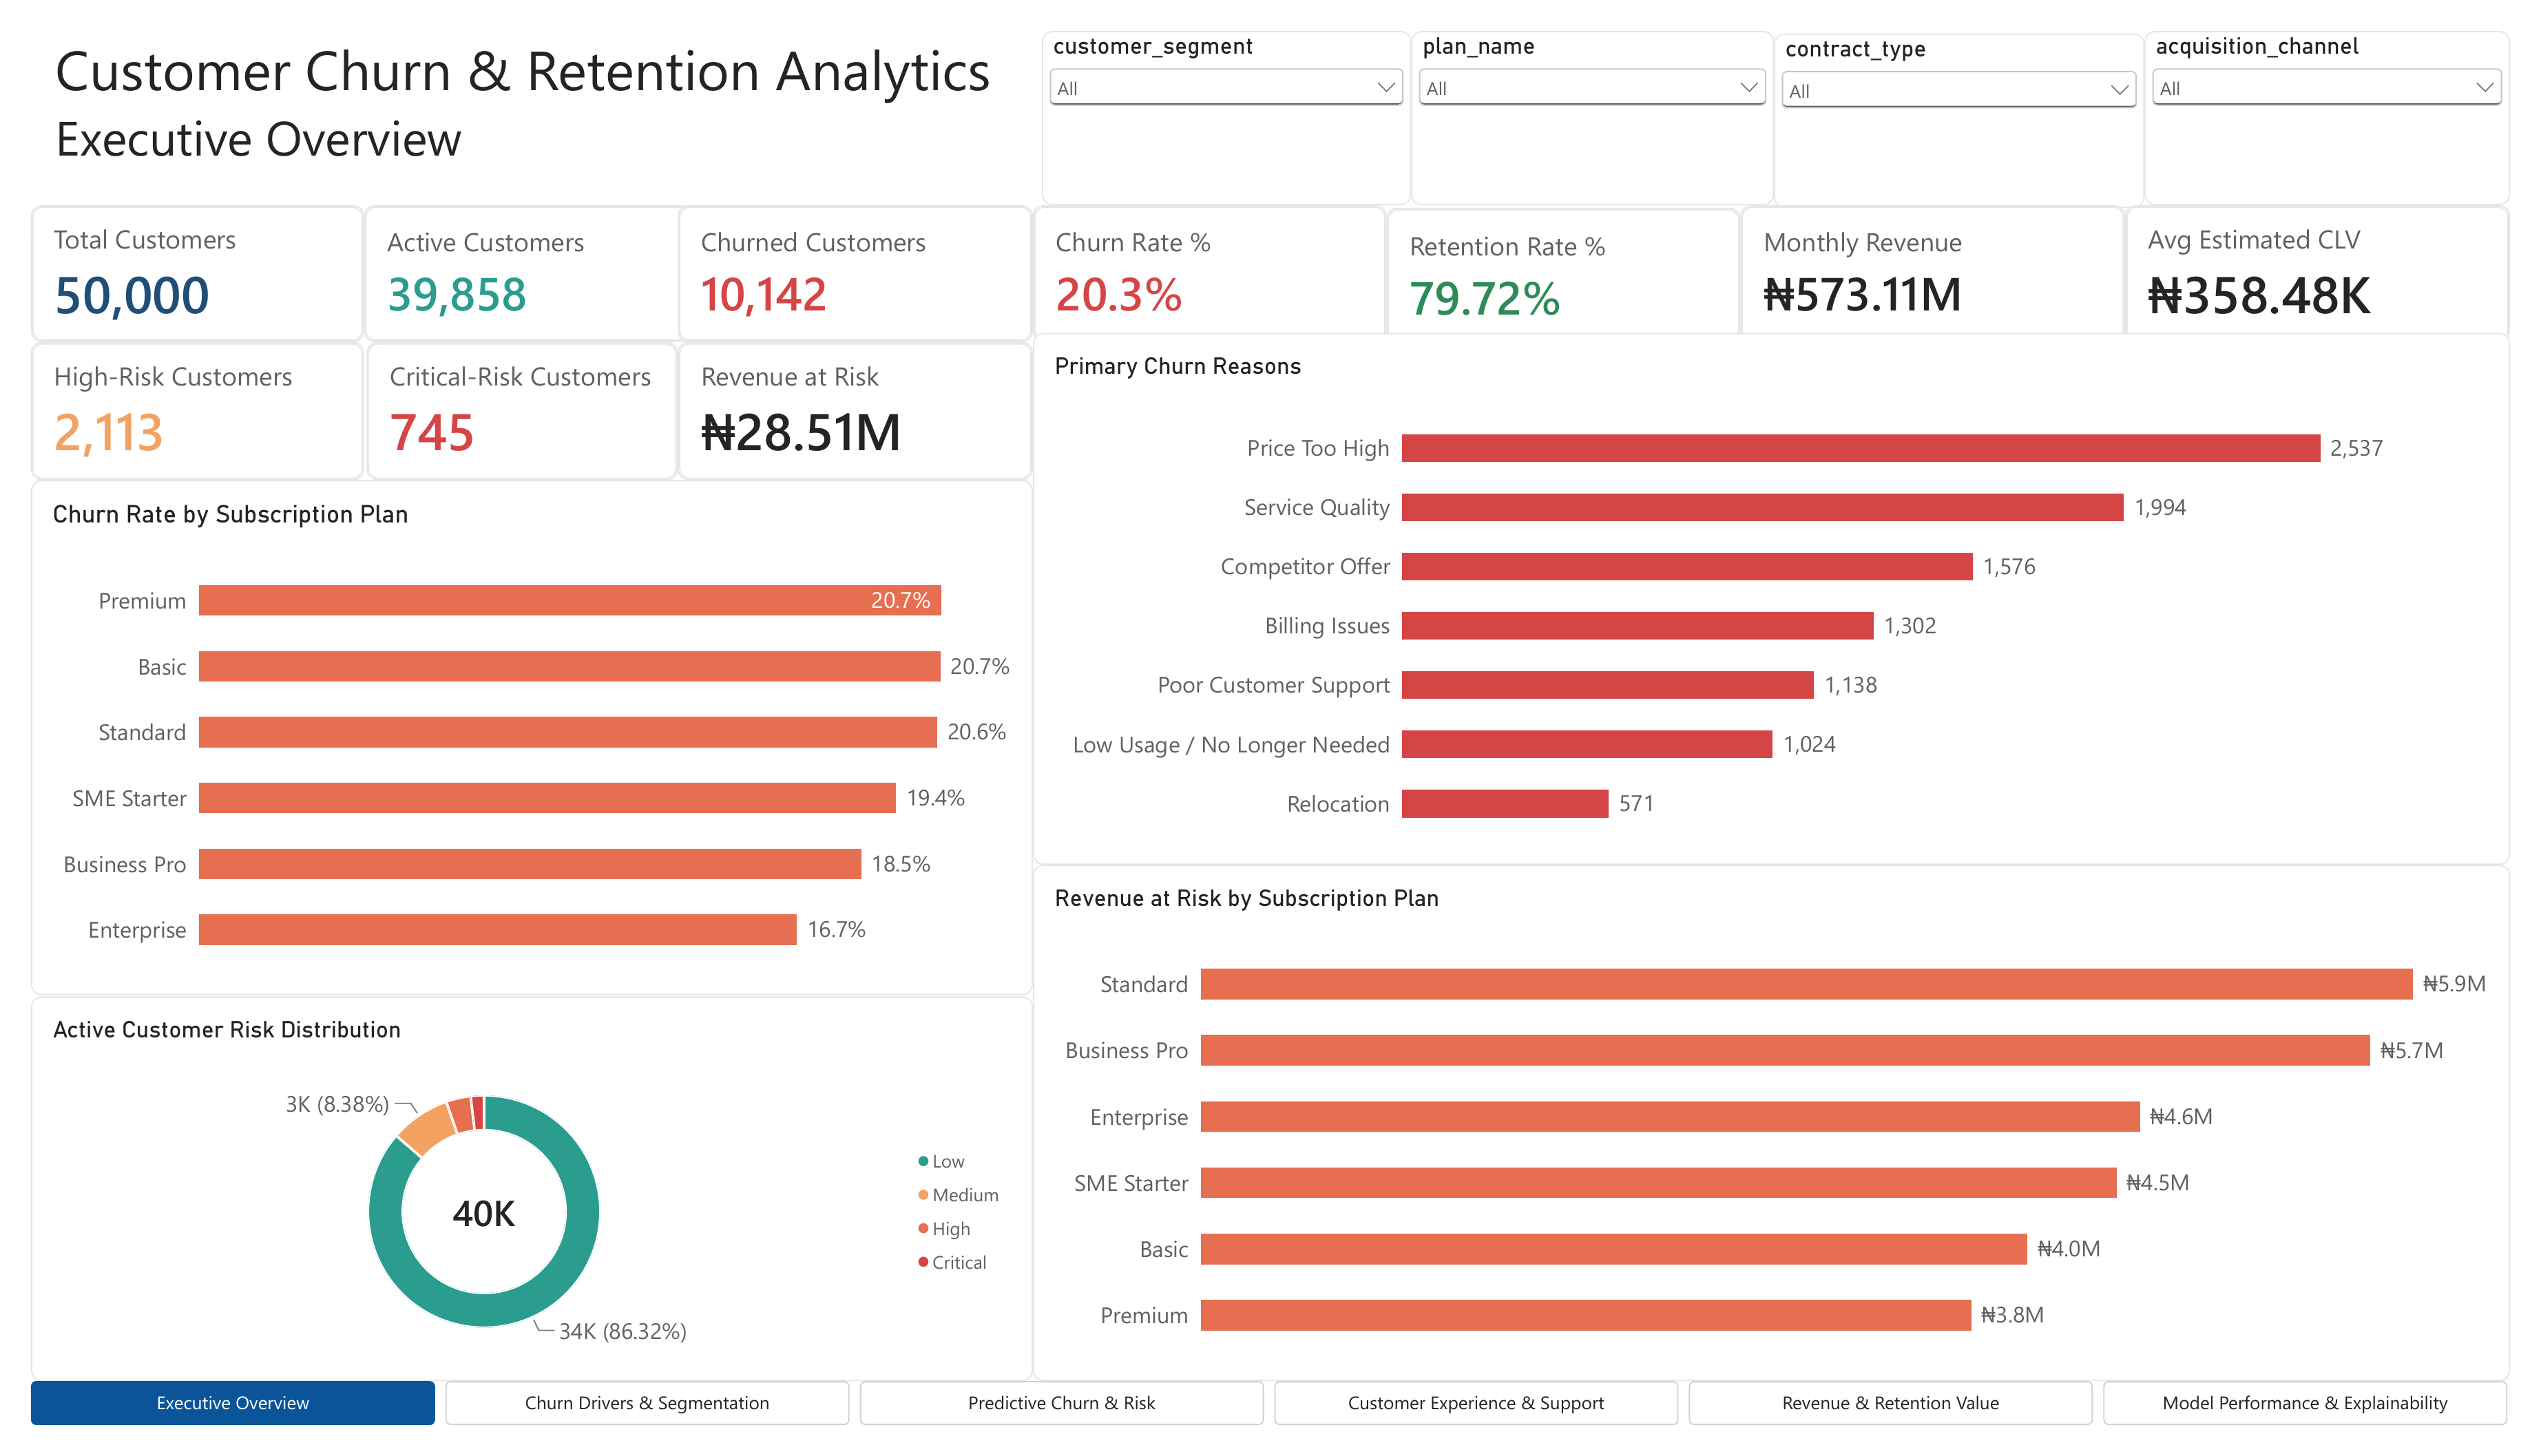

Layout of this report page (visuals, bound fields, positions):
{"tool":"powerbi","page":{"name":"Executive Overview","canvas":[1920,1080],"ordinal":0},"visuals":[{"type":"textbox","box":[18.9,0,756.8,134.8],"z":0},{"type":"slicer","fields":{"Values":["customer_retention_snapshot.customer_segment"]},"box":[782.9,0,286.2,134.8],"z":1000},{"type":"slicer","fields":{"Values":["customer_retention_snapshot.plan_name"]},"box":[1069,0,281.4,134.8],"z":2000},{"type":"slicer","fields":{"Values":["customer_retention_snapshot.contract_type"]},"box":[1350.5,2.4,286.2,134.8],"z":3000},{"type":"slicer","fields":{"Values":["customer_retention_snapshot.acquisition_channel"]},"box":[1636.7,0,283.8,134.8],"z":4000},{"type":"cardVisual","fields":{"Data":["Measures (2).Active Customers"]},"box":[257.8,134.8,255.4,106.4],"z":5000},{"type":"cardVisual","fields":{"Data":["Measures (2).Total Customers"]},"box":[0,134.8,257.8,106.4],"z":6000},{"type":"cardVisual","fields":{"Data":["Measures (2).Churned Customers"]},"box":[501.4,134.8,274.4,106.4],"z":7000},{"type":"cardVisual","fields":{"Data":["Measures (2).Churn Rate %"]},"box":[775.8,134.8,274.4,106.4],"z":8000},{"type":"cardVisual","fields":{"Data":["Measures (2).Retention Rate %"]},"box":[1050.1,137.2,274.4,106.4],"z":9000},{"type":"cardVisual","fields":{"Data":["Measures (2).Monthly Recurring Revenue"]},"box":[1324.5,134.8,298,106.4],"z":10000},{"type":"cardVisual","fields":{"Data":["Measures (2).High-Risk Customers"]},"box":[0,241.2,257.8,106.4],"z":11000},{"type":"cardVisual","fields":{"Data":["Measures (2).Critical-Risk Customers"]},"box":[260.2,241.2,241.2,106.4],"z":12000},{"type":"cardVisual","fields":{"Data":["Measures (2).High-Risk Monthly Revenue"]},"box":[501.4,241.2,274.4,106.4],"z":13000},{"type":"cardVisual","fields":{"Data":["Measures (2).Average Estimated CLV"]},"box":[1622.5,134.8,298,106.4],"z":14000},{"type":"clusteredBarChart","title":"Churn Rate by Subscription Plan","fields":{"Category":["customer_retention_snapshot.plan_name"],"Y":["Measures (2).Churn Rate %"]},"box":[0,347.7,775.8,399.7],"z":15000},{"type":"donutChart","title":"Active Customer Risk Distribution","fields":{"Y":["Measures (2).Total Customers"],"Category":["customer_retention_snapshot.risk_band"]},"box":[0,748,776,298],"z":16000},{"type":"clusteredBarChart","title":"Revenue at Risk by Subscription Plan","fields":{"Category":["customer_retention_snapshot.plan_name"],"Y":["Measures (2).High-Risk Monthly Revenue"]},"box":[776,646,1144,400],"z":17000},{"type":"clusteredBarChart","title":"Primary Churn Reasons","fields":{"Category":["customer_retention_snapshot.churn_reason"],"Y":["Measures (2).Churned Customers"]},"box":[775.8,234.1,1144.7,411.5],"z":18000},{"type":"pageNavigator","box":[0,1046,1920,34],"z":19000}]}

Visuals, with their boxes in screenshot pixels (x1, y1, x2, y2), scaled from the page's 1920x1080 canvas onto the 2541x1456 screenshot:
textbox: 25 0 1027 182
slicer - customer_retention_snapshot.customer_segment: 1036 0 1415 182
slicer - customer_retention_snapshot.plan_name: 1414 0 1787 182
slicer - customer_retention_snapshot.contract_type: 1787 3 2166 185
slicer - customer_retention_snapshot.acquisition_channel: 2166 0 2540 182
cardVisual - Measures (2).Active Customers: 341 182 679 325
cardVisual - Measures (2).Total Customers: 0 182 341 325
cardVisual - Measures (2).Churned Customers: 664 182 1027 325
cardVisual - Measures (2).Churn Rate %: 1027 182 1390 325
cardVisual - Measures (2).Retention Rate %: 1390 185 1753 328
cardVisual - Measures (2).Monthly Recurring Revenue: 1753 182 2147 325
cardVisual - Measures (2).High-Risk Customers: 0 325 341 469
cardVisual - Measures (2).Critical-Risk Customers: 344 325 664 469
cardVisual - Measures (2).High-Risk Monthly Revenue: 664 325 1027 469
cardVisual - Measures (2).Average Estimated CLV: 2147 182 2540 325
"Churn Rate by Subscription Plan" clusteredBarChart: 0 469 1027 1008
"Active Customer Risk Distribution" donutChart: 0 1009 1027 1410
"Revenue at Risk by Subscription Plan" clusteredBarChart: 1027 871 2540 1410
"Primary Churn Reasons" clusteredBarChart: 1027 315 2540 870
pageNavigator: 0 1410 2540 1455
